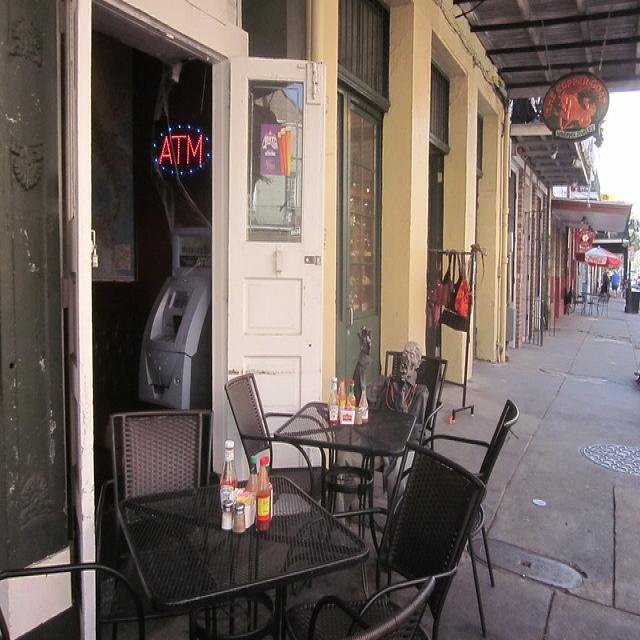building: (2, 0, 631, 640)
chair: (284, 454, 490, 638), (221, 367, 330, 555), (216, 364, 334, 518), (0, 554, 154, 640), (106, 399, 207, 504), (296, 584, 440, 640), (382, 348, 450, 465), (275, 120, 295, 180)
tablet computer: (110, 456, 415, 635), (263, 378, 421, 553)
